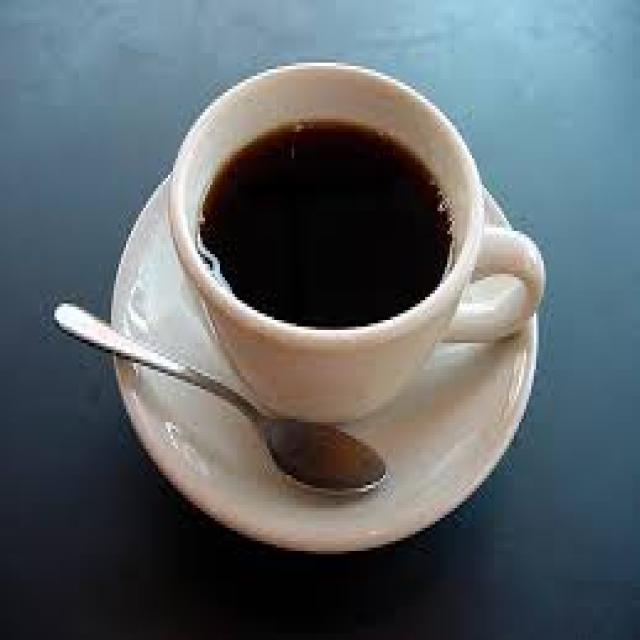taza: (154, 54, 546, 436)
